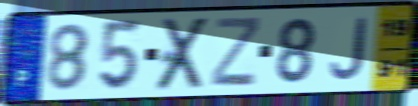5: (99, 17, 144, 94)
8: (44, 22, 91, 93), (275, 15, 316, 86)
J: (328, 15, 369, 83)
X: (153, 15, 213, 94)
Z: (208, 15, 263, 89)
